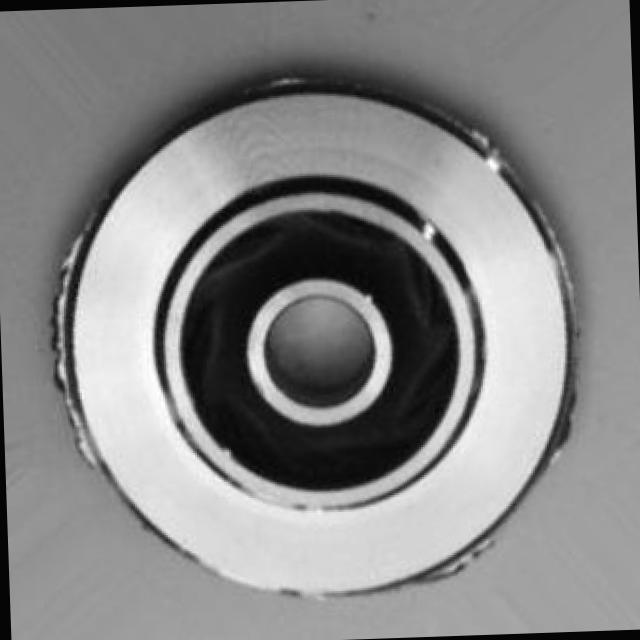Defect: (31, 268, 78, 342)
